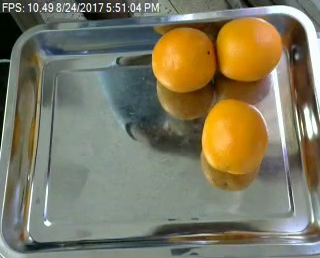Orange: (202, 99, 269, 175), (215, 16, 282, 80), (151, 26, 215, 91)
